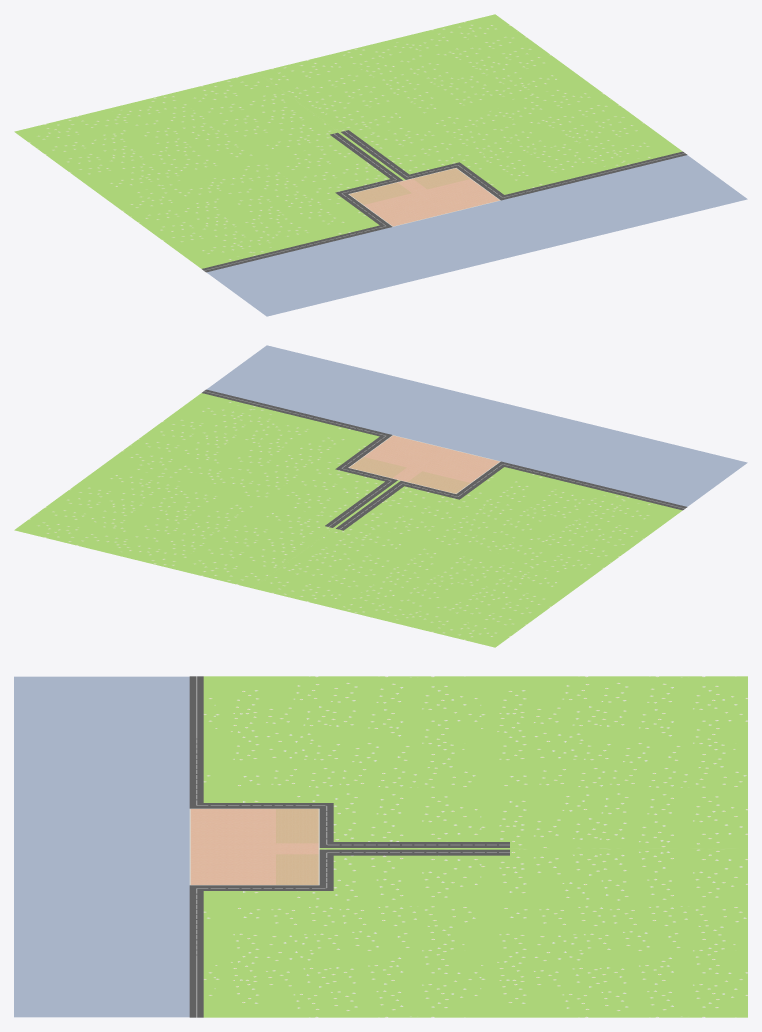
Rendered from Ground.fbx.
The picture shows the model from 3 angles, top to bottom: view 1: azimuth 30°, elevation 25°; view 2: azimuth 150°, elevation 25°; view 3: azimuth 270°, elevation 25°; orthographic projection. The views are drawn at different scales.
Visible parts, largest first — view 1: Ground; view 2: Ground; view 3: Ground.
Boxes of the visible parts, x1=… form: Ground: x1=14, y1=14, x2=747, y2=316; Ground: x1=14, y1=345, x2=747, y2=647; Ground: x1=14, y1=676, x2=747, y2=1017.
Size of the model in its own units: 18929 by 0.00131 by 17208.
